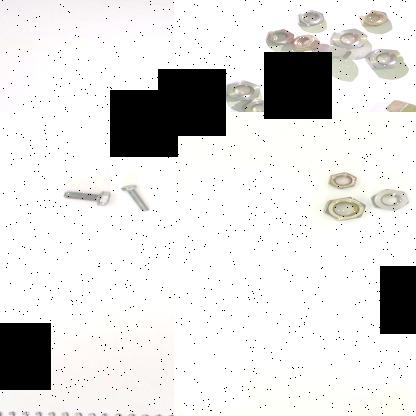Bolts: (121, 177, 150, 219), (62, 189, 114, 205)
NUTS: (319, 195, 369, 221), (372, 186, 414, 212), (224, 78, 264, 104), (364, 46, 406, 70), (352, 7, 392, 29), (314, 40, 354, 60), (260, 25, 296, 47), (328, 27, 368, 46), (286, 30, 322, 50), (239, 96, 282, 112), (323, 170, 361, 188), (292, 91, 324, 112), (293, 72, 328, 90), (294, 8, 327, 26), (382, 95, 416, 112), (174, 70, 194, 98)
